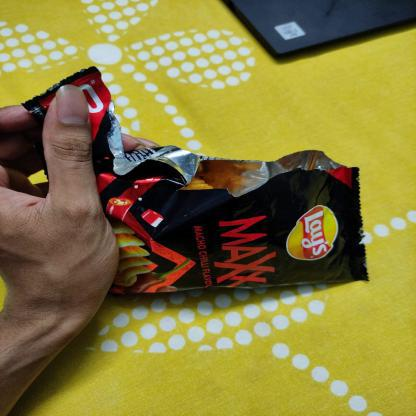max_chili: (29, 105, 371, 285)
